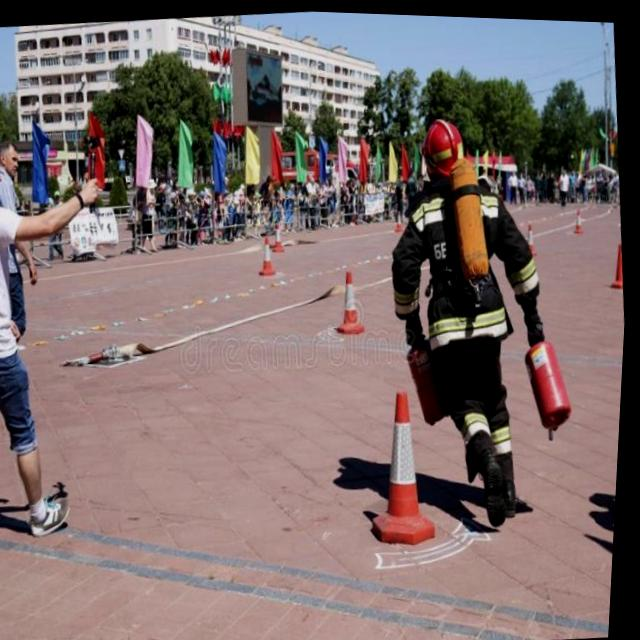FireExtinguisher: (517, 325, 584, 437), (400, 324, 470, 426)
